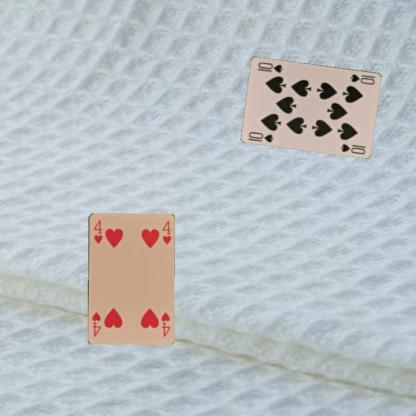10s: (348, 71, 376, 86), (246, 129, 275, 143)
4h: (158, 309, 171, 338), (91, 217, 103, 245)
